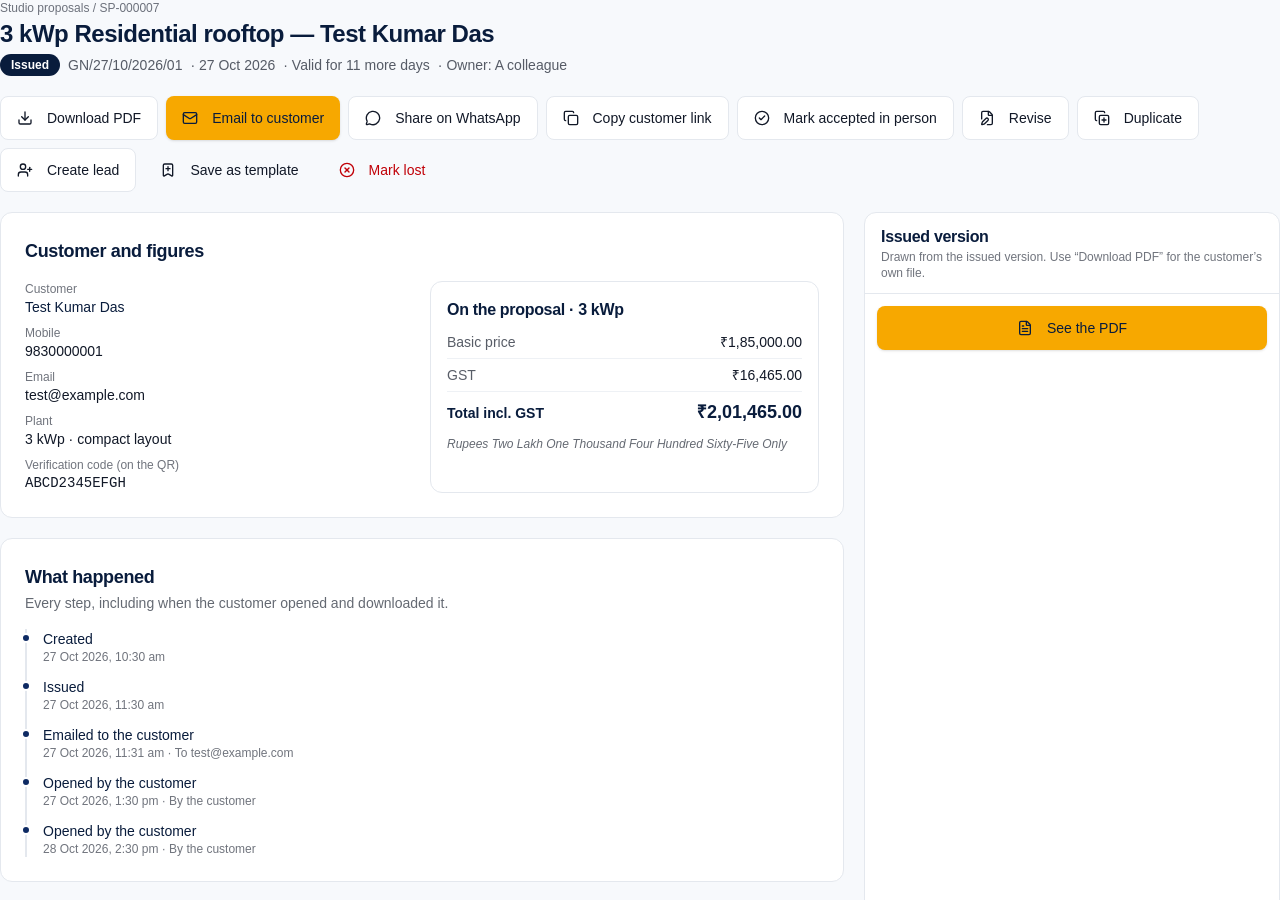
Scenario: the proposal page after issue › Email: no address on file → the API’s no_customer_email is explained in the dialog
This screenshot has width=1280, height=900.
Click the button with test id "action-email" at point(253, 118), box [166,96,340,140]
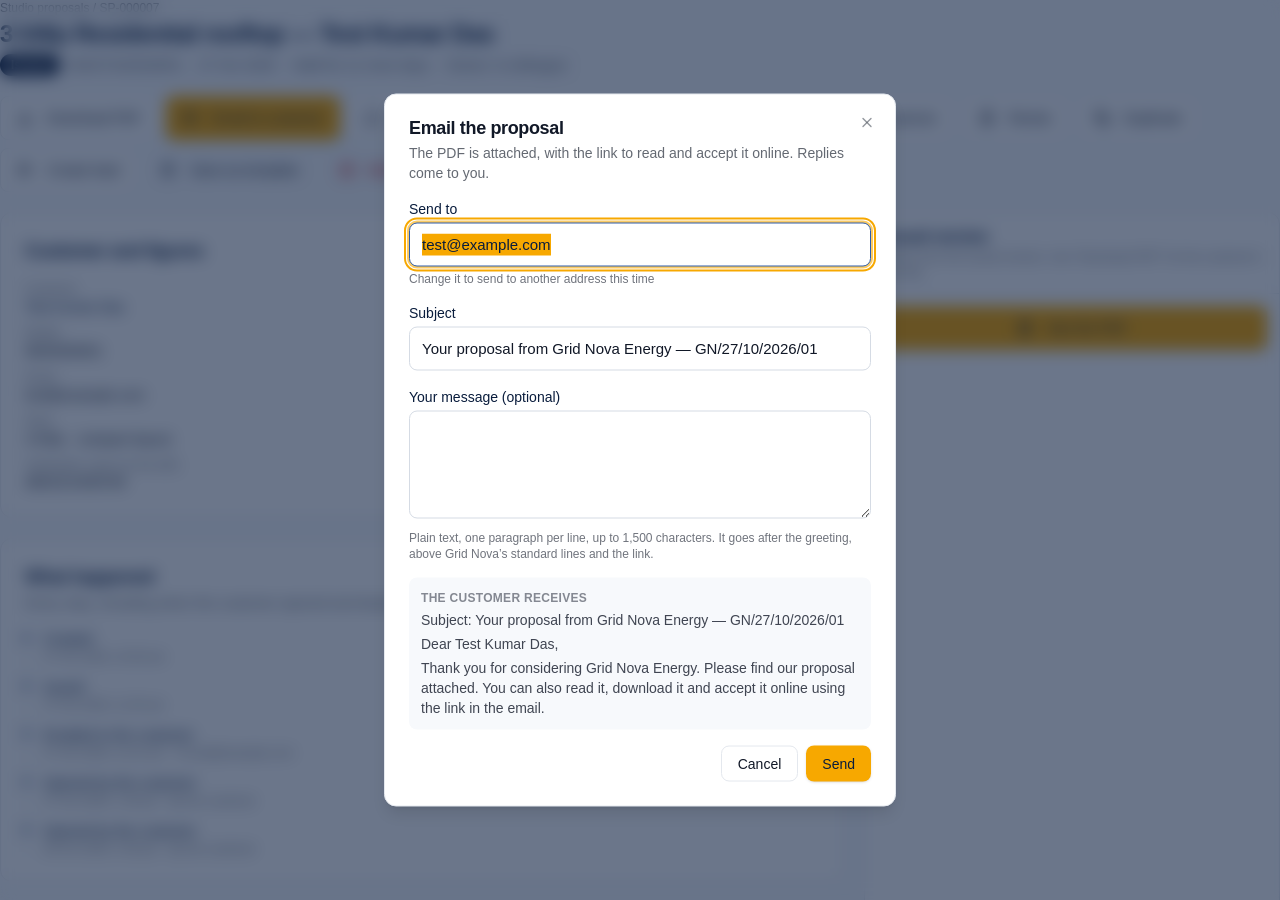
Click the button with test id "email-send" at point(839, 764), box [806,746,871,782]
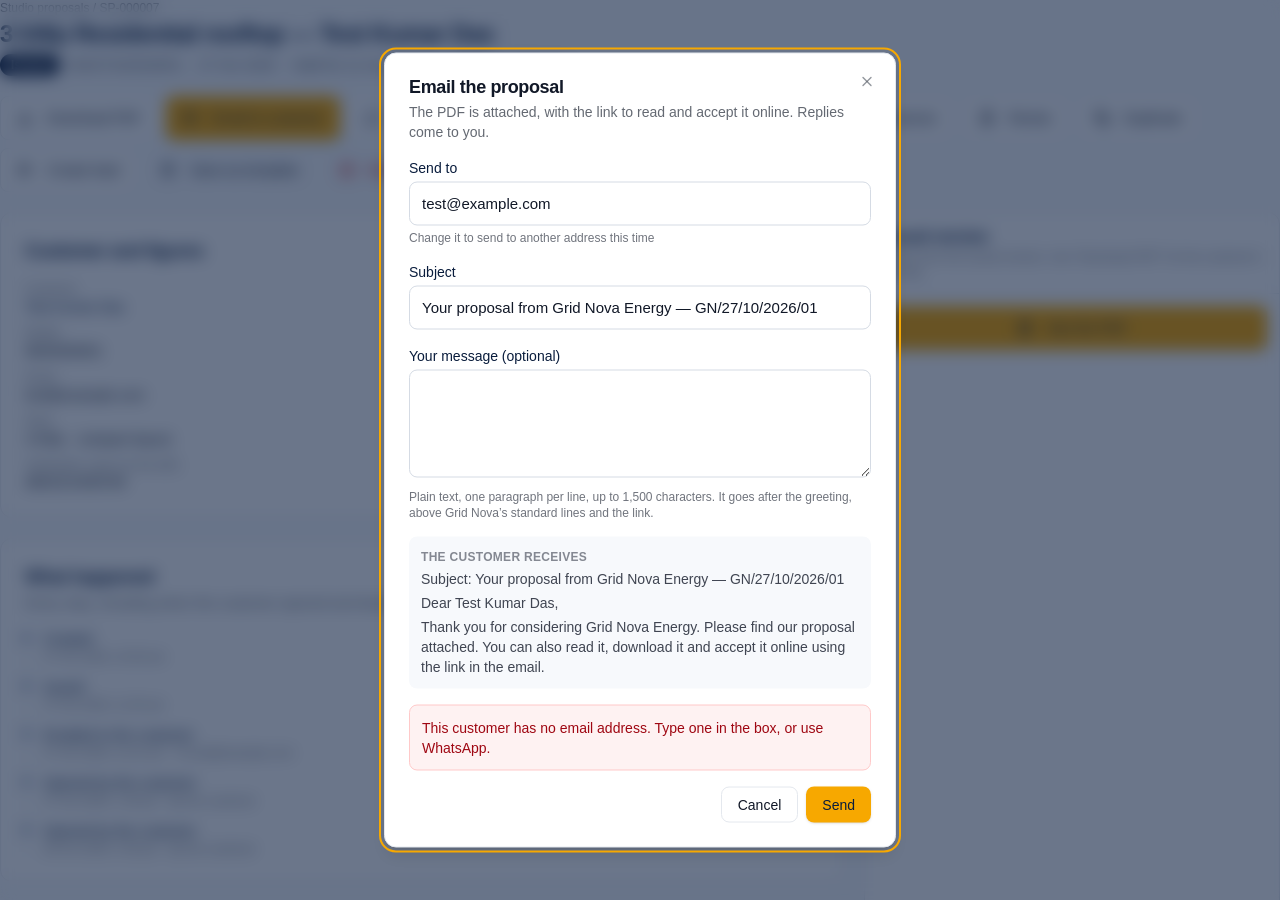
Check: the text "This customer has no email address. Type one in the box, or use WhatsApp." is shown, box [409,704,871,770]
